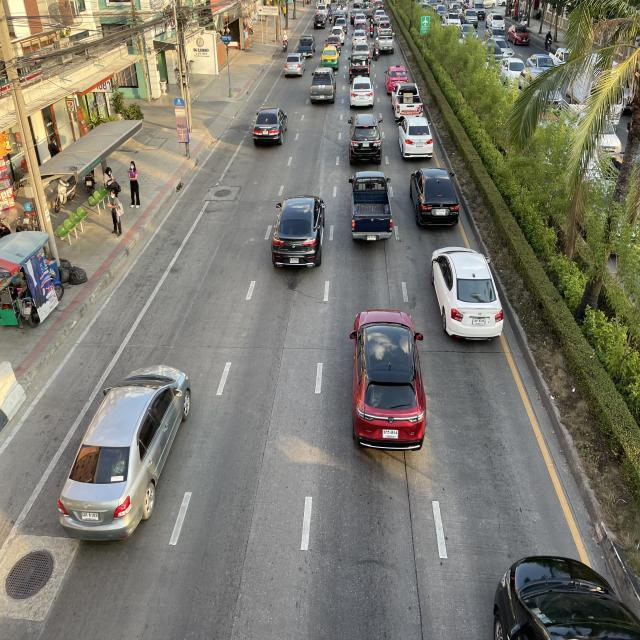car: (56, 362, 194, 545), (350, 302, 430, 459), (428, 240, 506, 344), (268, 192, 328, 275), (349, 166, 395, 247), (409, 165, 460, 230), (346, 111, 383, 166), (396, 116, 434, 160), (252, 107, 290, 148), (391, 82, 424, 120), (310, 66, 337, 106), (348, 76, 376, 108), (384, 64, 410, 96), (283, 52, 307, 79)
